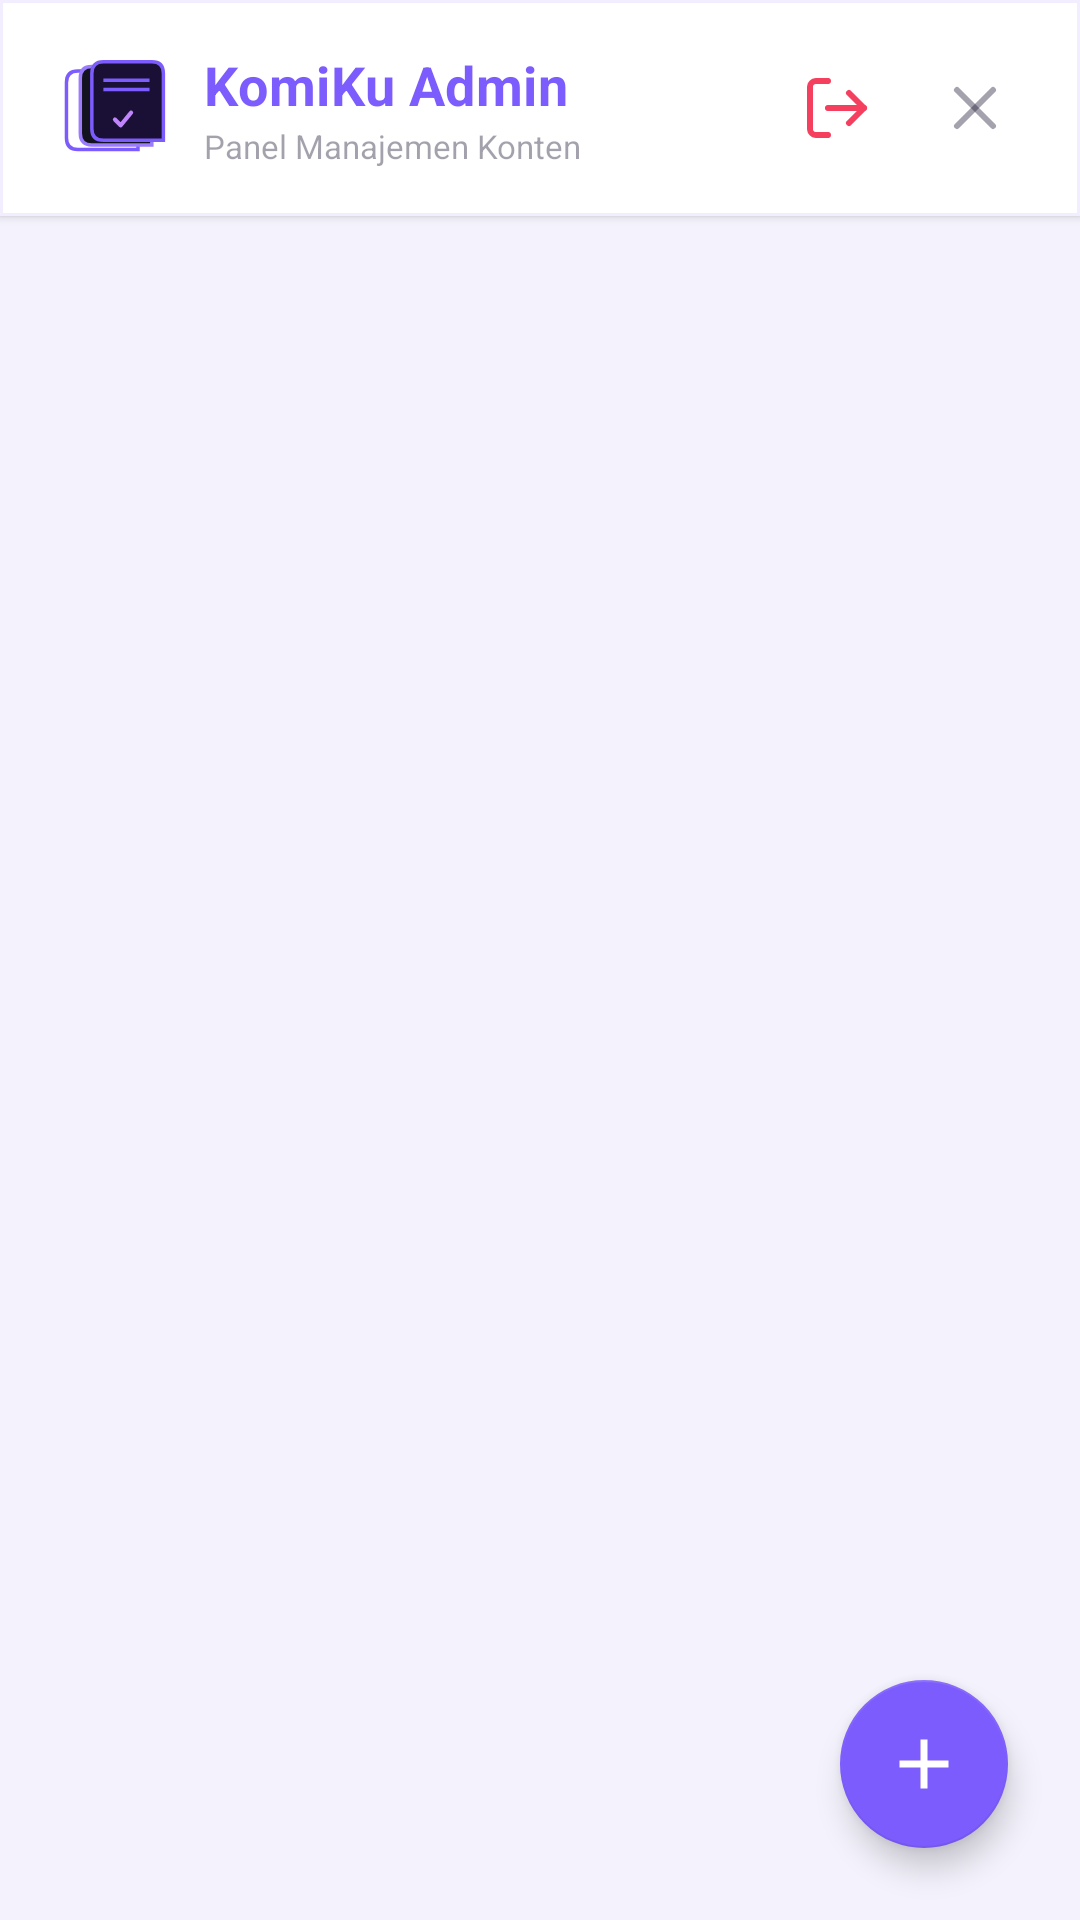

Where icons sit on this 1080x1920 app screen, as (x1, y1, x2, y2):
Kembali: (954, 87, 996, 129)
Tambah Komik Baru: (840, 1680, 1008, 1848)
